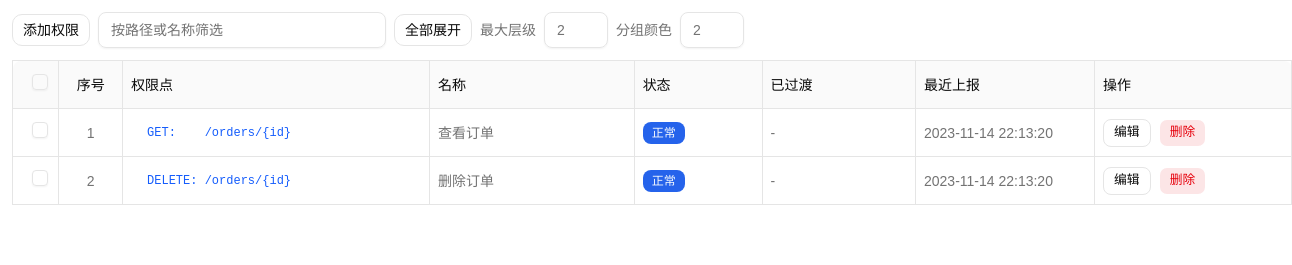
Test case: 点击行内空白处（不是勾选框）也能选中/取消这一行
Click the row "1 GET: /orders/{id} 查看订单 正常 - 2023-11-14 22:13:20 编辑 删除".
click(652, 132)  # box [12,108,1291,156]
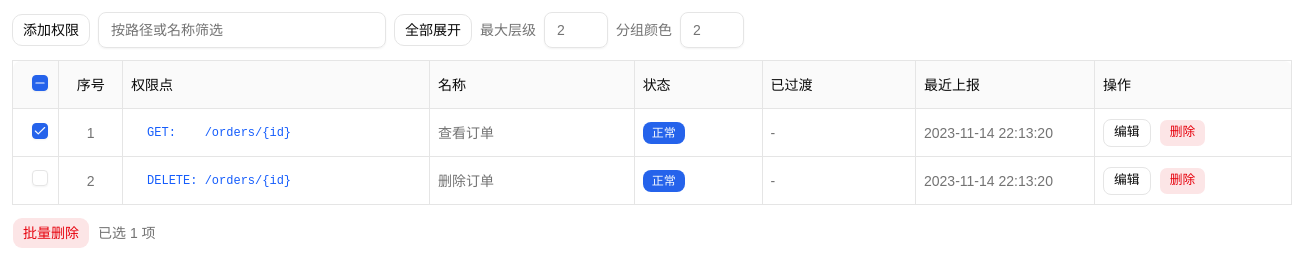
Check: the text "已选 1 项" is shown, box [98,223,156,243]
Click the row "1 GET: /orders/{id} 查看订单 正常 - 2023-11-14 22:13:20 编辑 删除".
click(652, 132)  # box [12,108,1291,156]
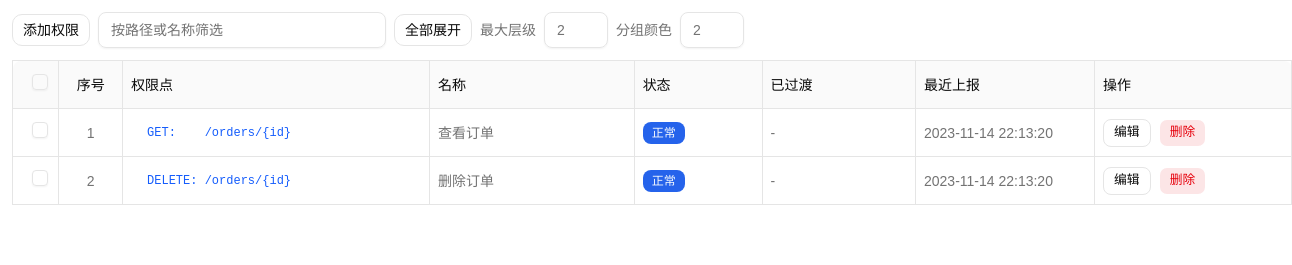
Check: the text "已选" is gone
